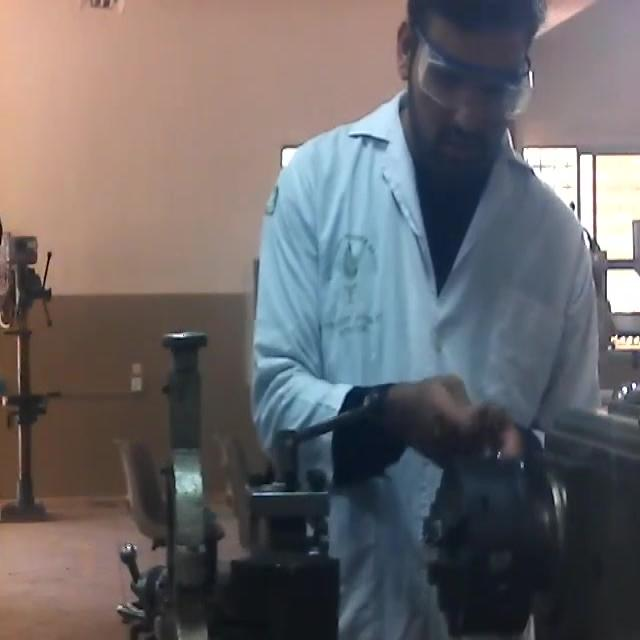googles: (408, 28, 542, 127)
labcoat: (258, 88, 603, 640)
